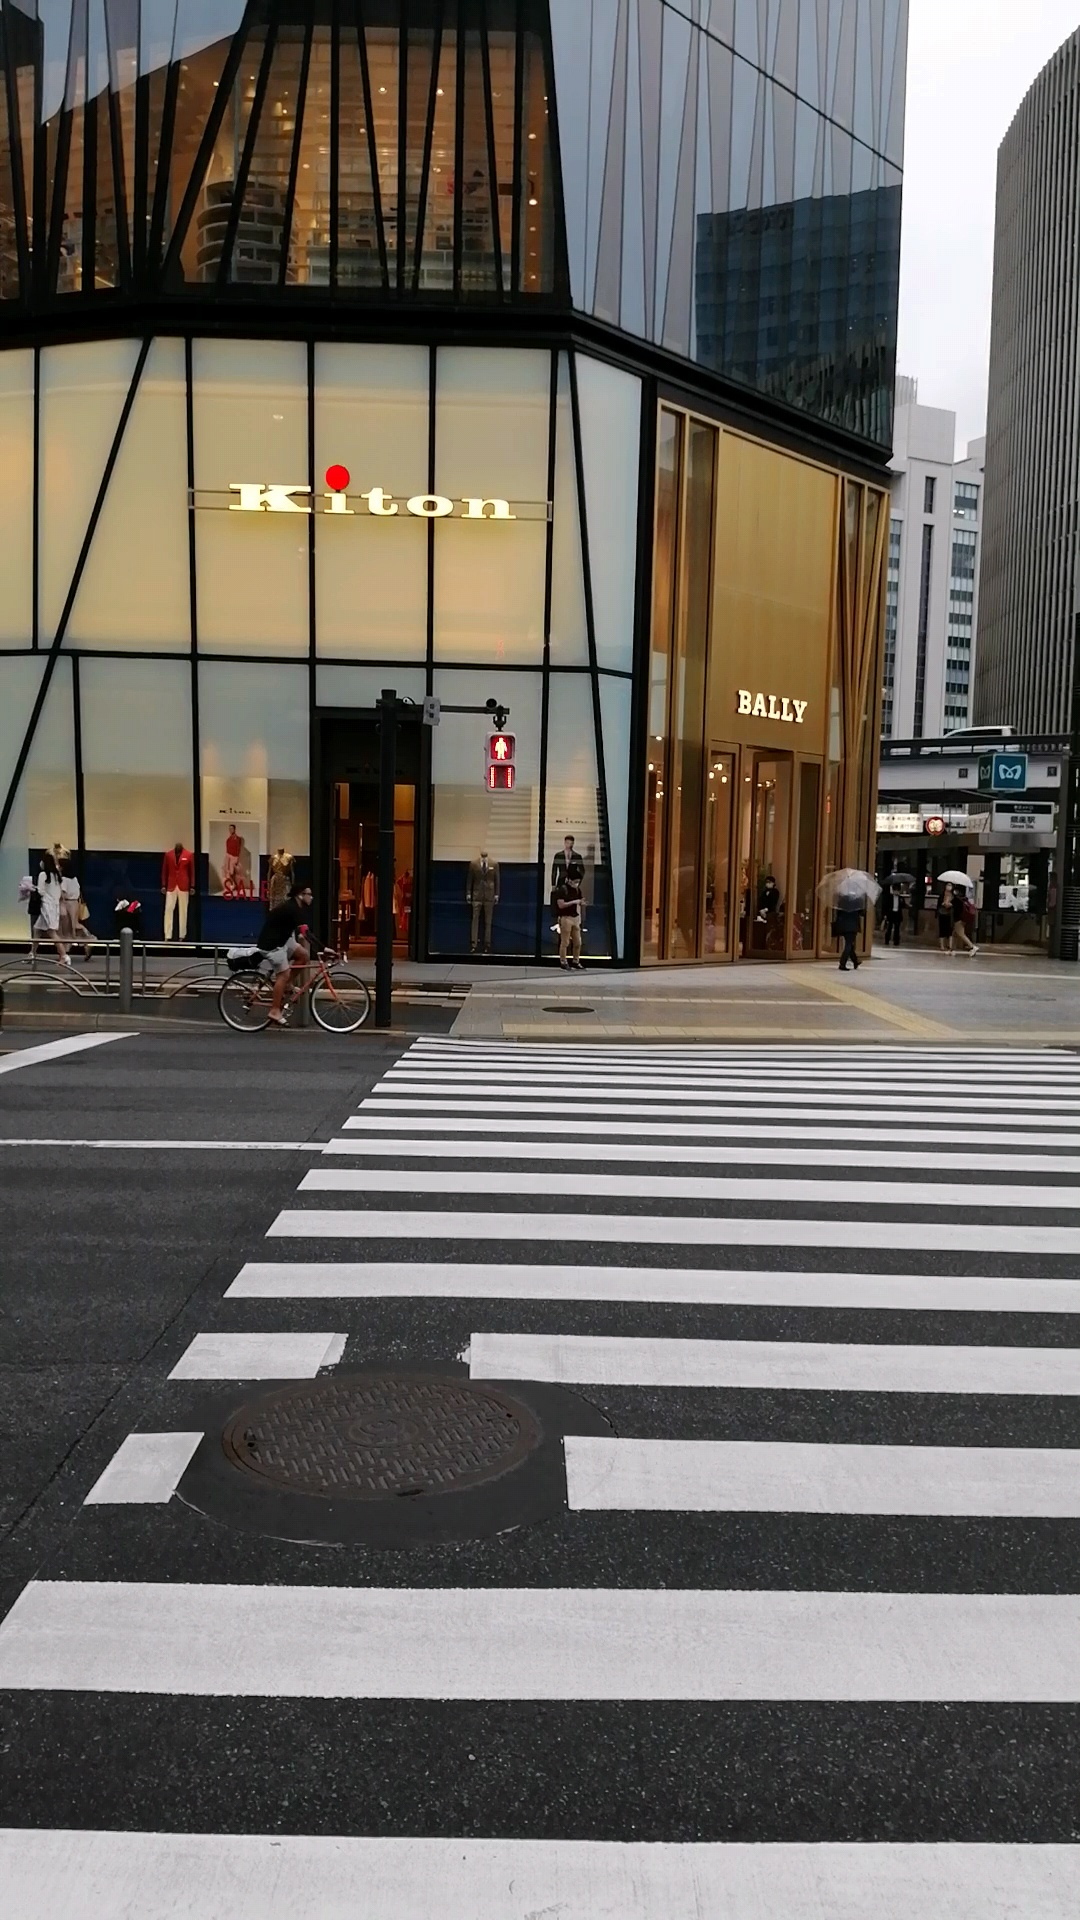red: (483, 732, 516, 794)
